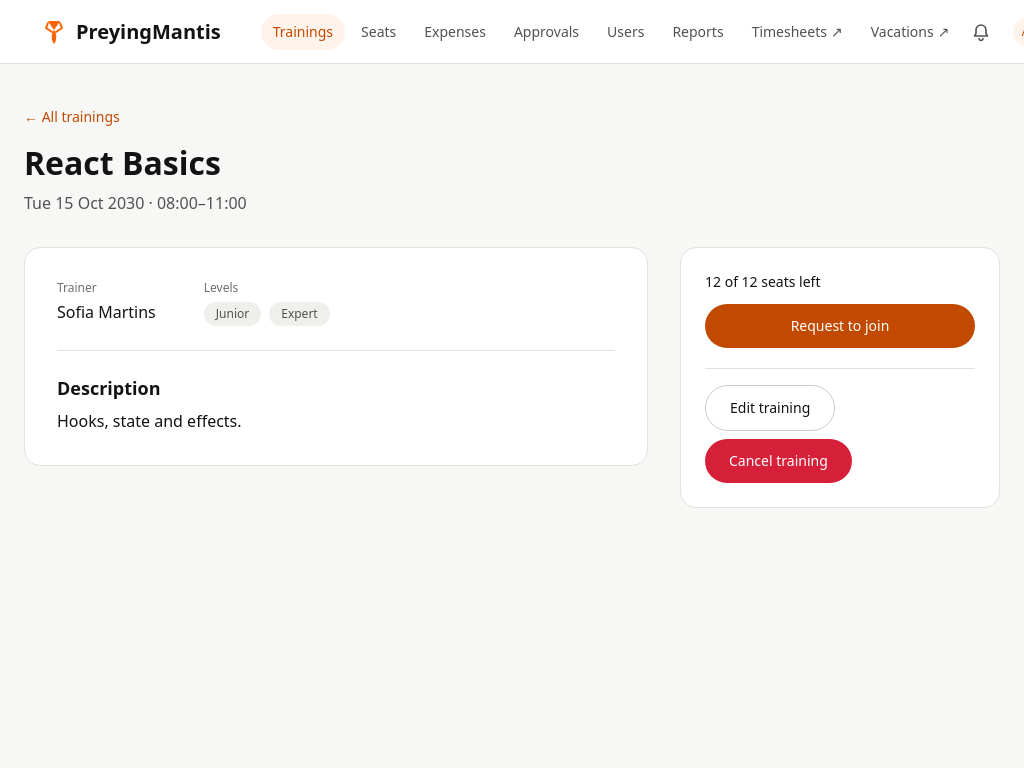
it: cancel training › does nothing when the admin keeps it
Click the button "Cancel training": click(778, 461) [705, 439, 852, 483]
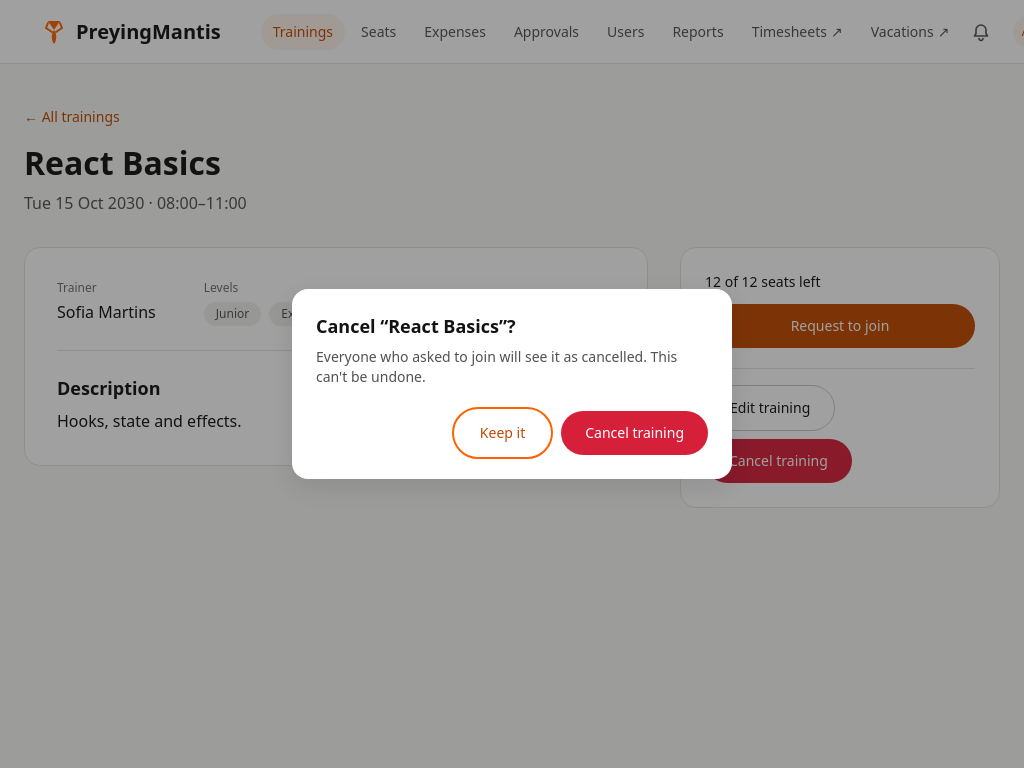
Click the button "Keep it": click(502, 433) [456, 411, 549, 455]
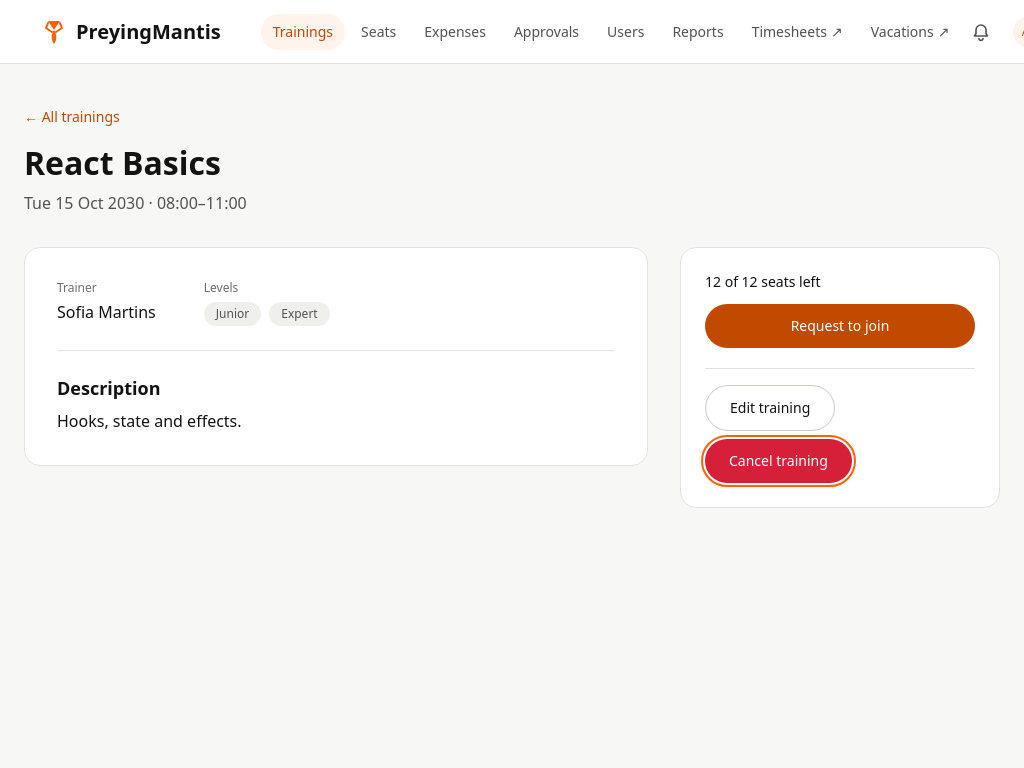
Expected: the dialog is gone
